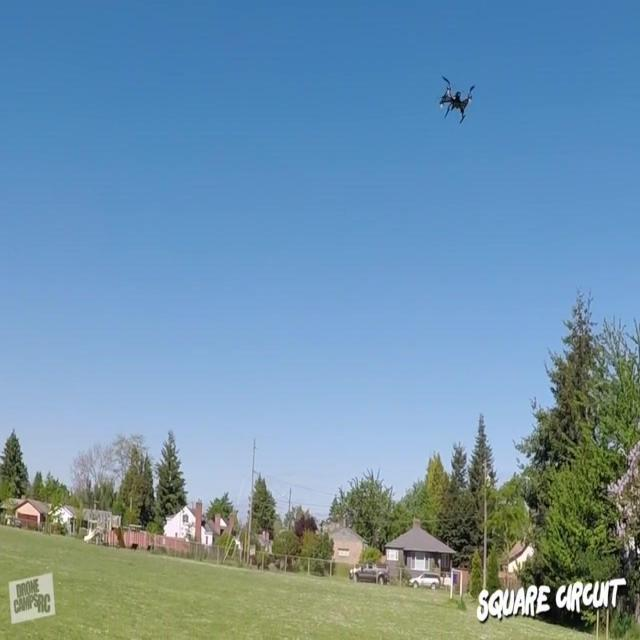drone: (438, 72, 477, 132)
